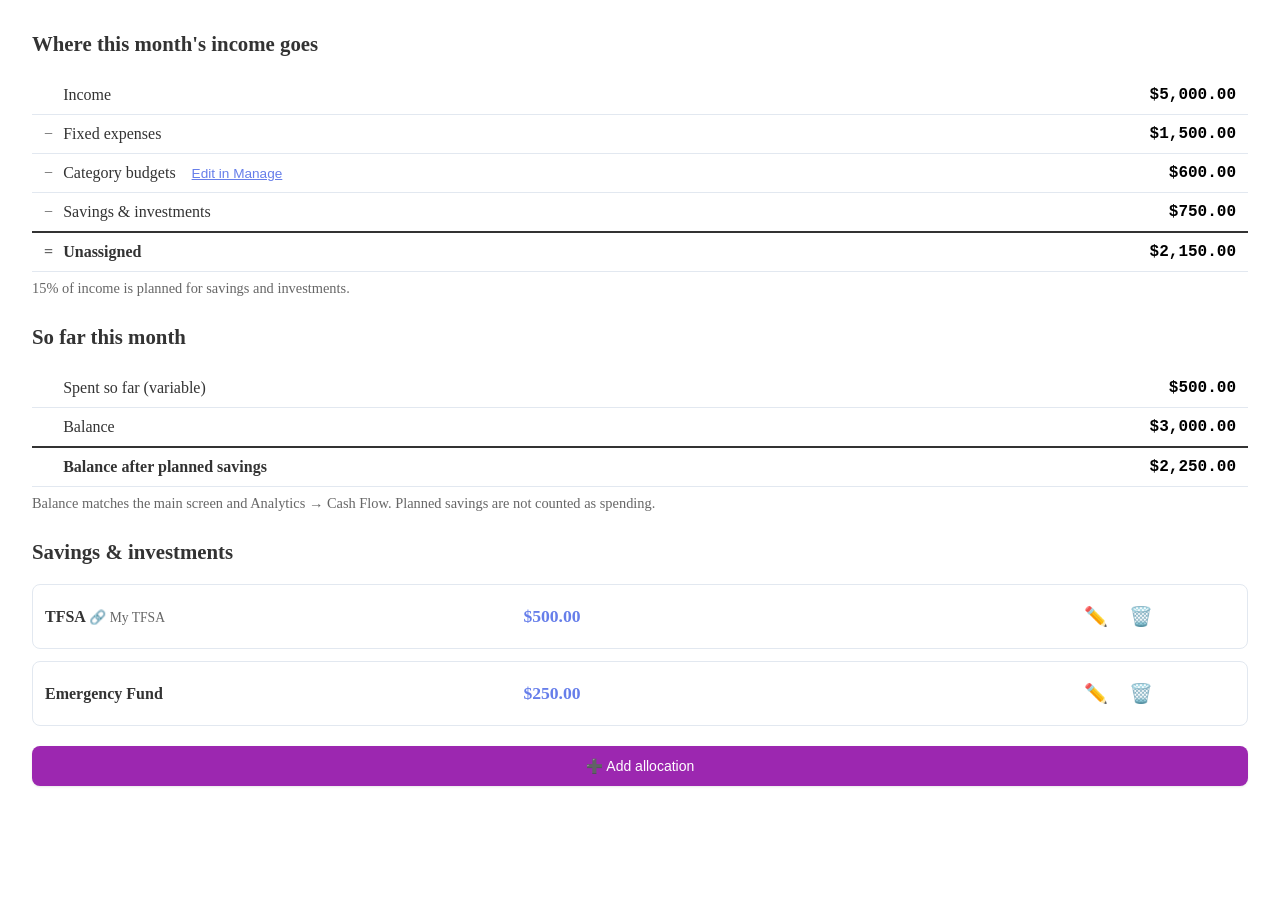
Scenario: BudgetPlanTab › allocations › shows server errors from a failed save in the form
Click the button "➕ Add allocation" at (640, 766), box left=32, top=746, right=1248, bottom=786
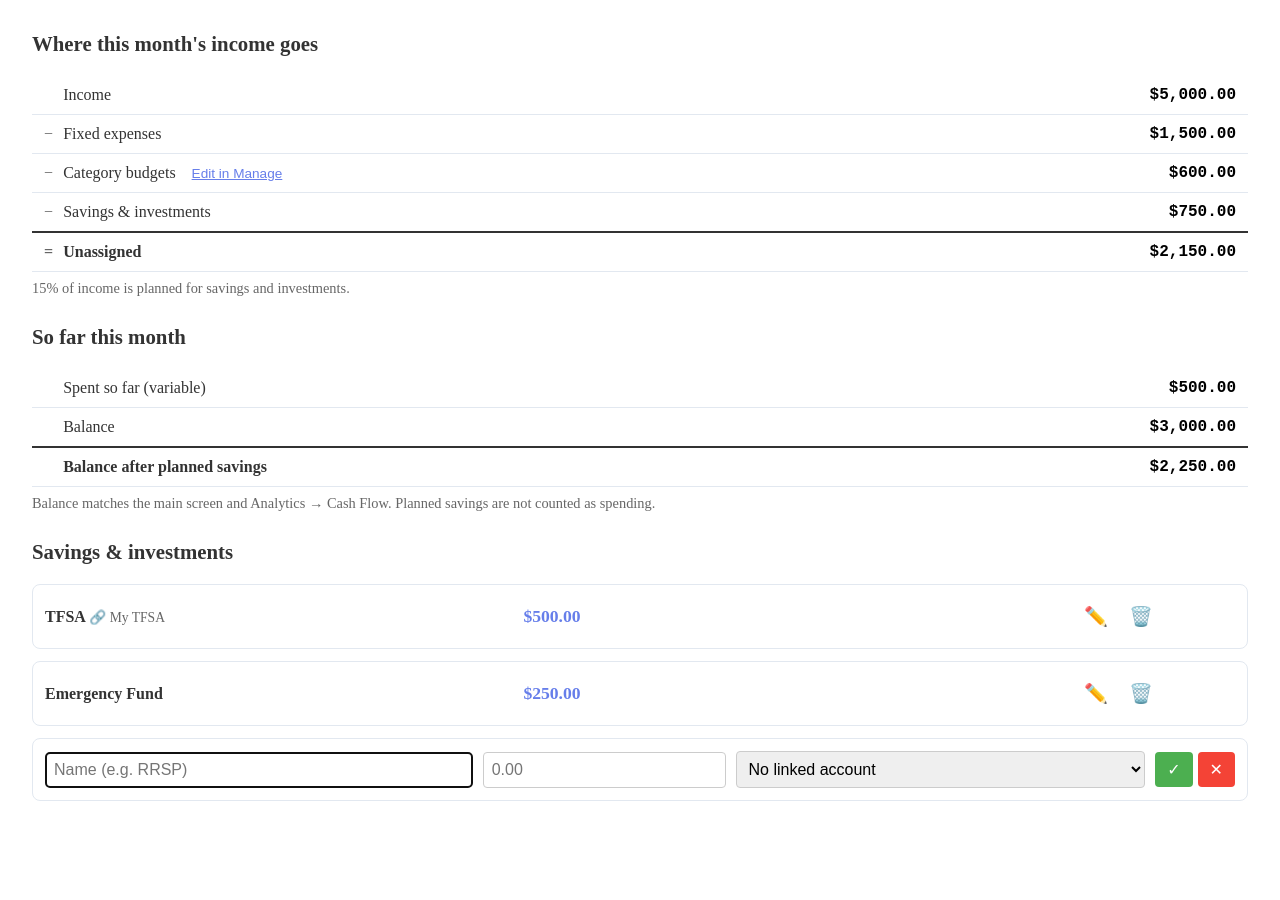
Type "TFSA" into the field named "Allocation name" at (259, 770), box left=45, top=752, right=473, bottom=788
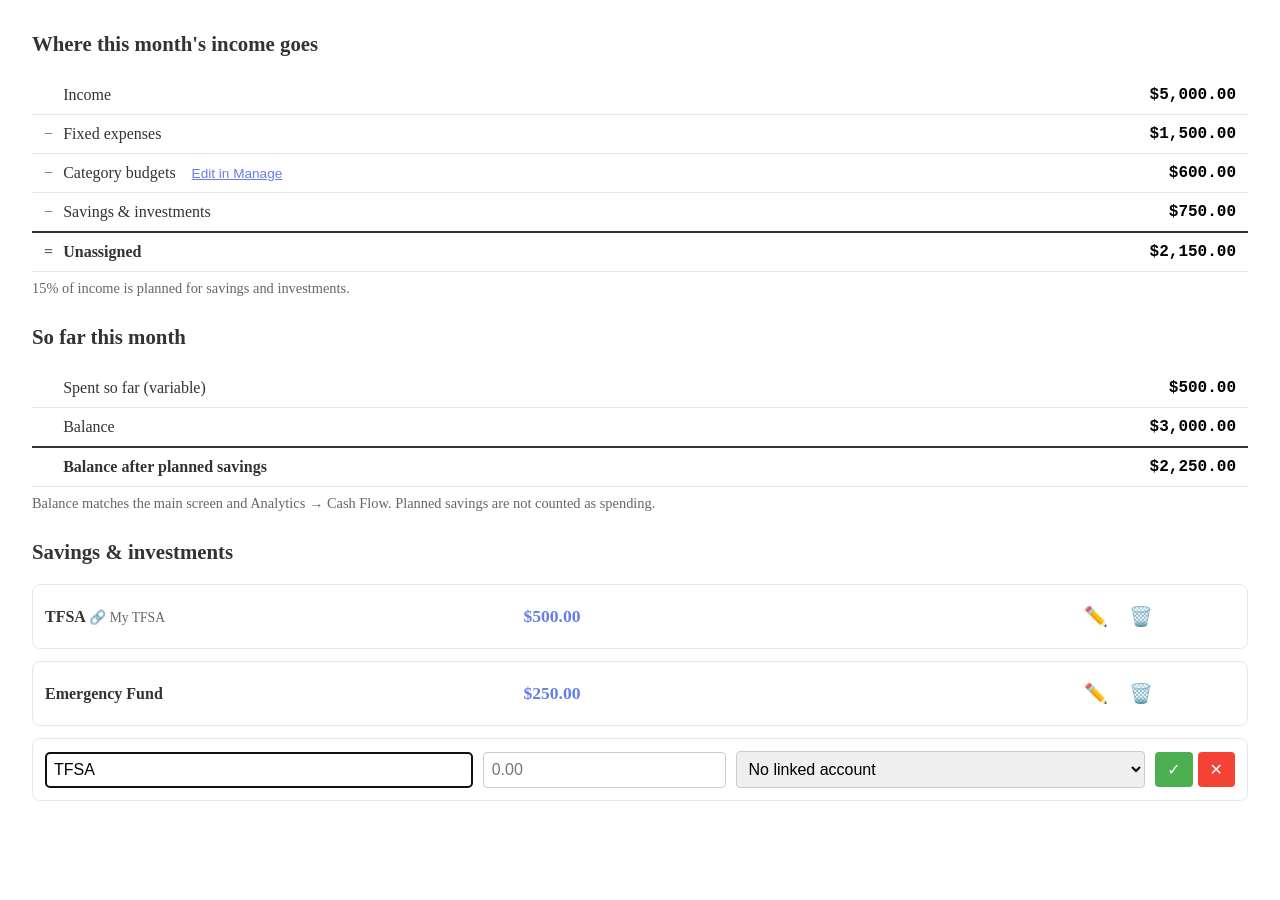
Type "10" into the number field named "Allocation amount" at (604, 770), box left=483, top=752, right=726, bottom=788
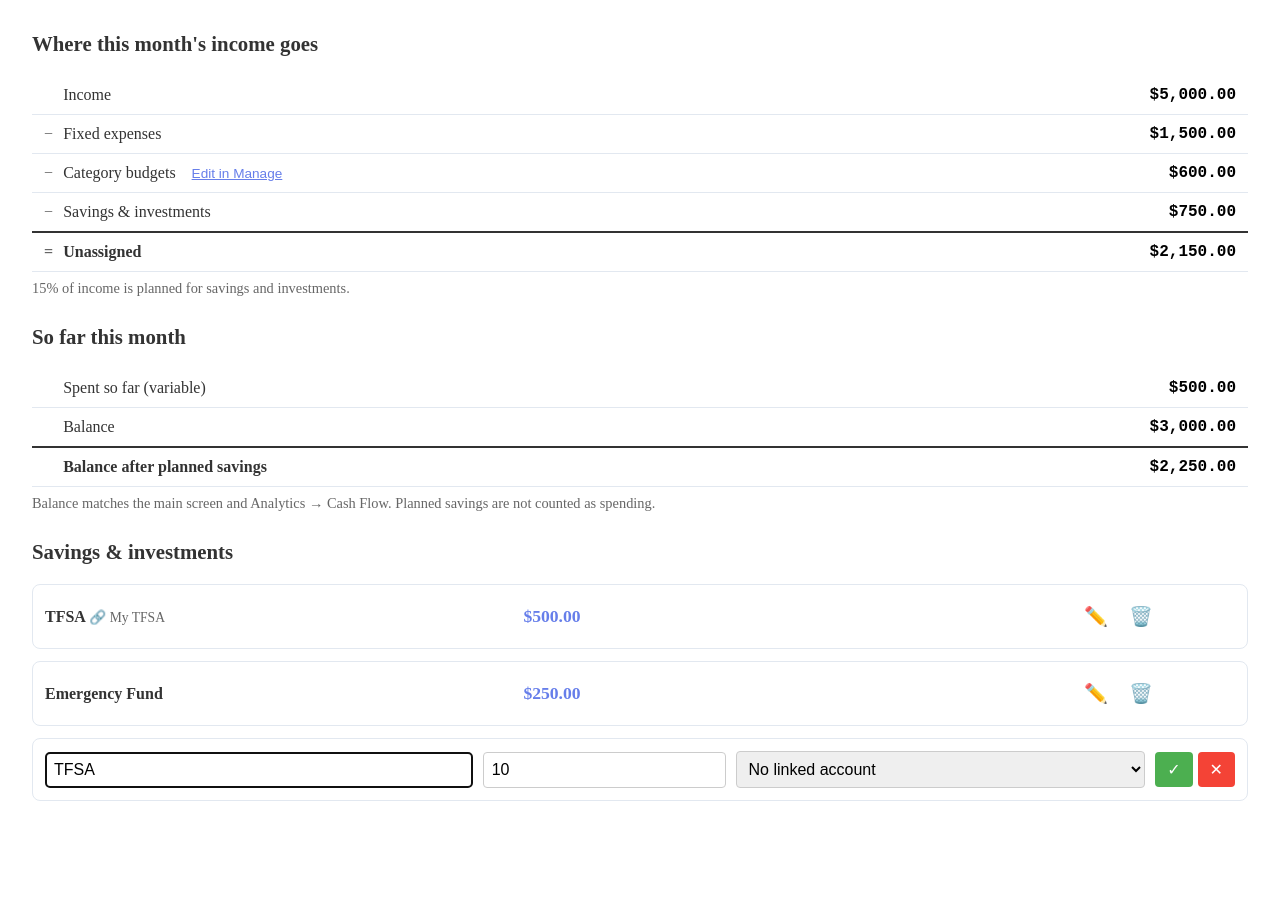
Click the button titled "Save" at (1174, 770), box left=1155, top=752, right=1193, bottom=787
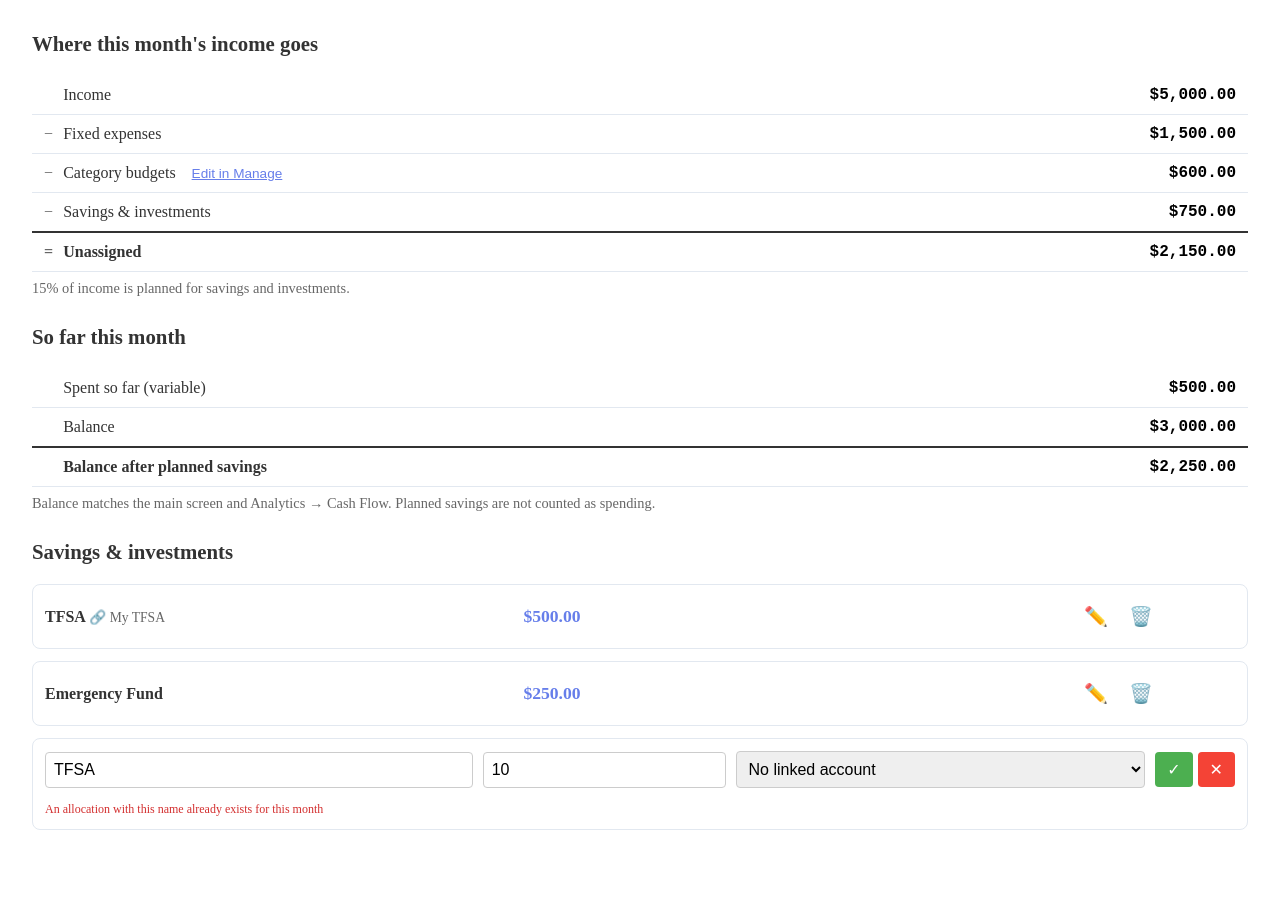
Expected: the text "An allocation with this name already exists for this month" is shown, left=45, top=802, right=323, bottom=816
